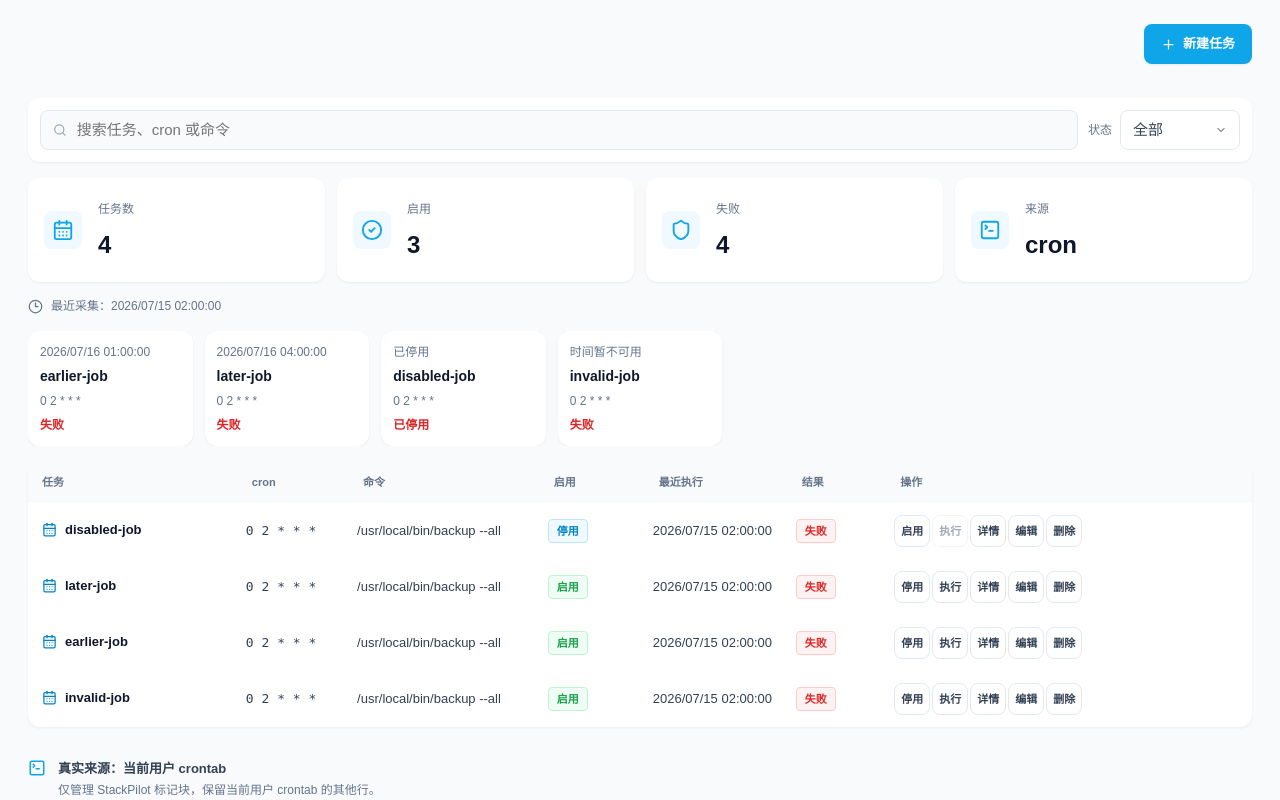
Test: schedule failed page › sorts the calendar by real next-run timestamps and retains execution details
The image size is (1280, 800).
Expected: the element that starts with "earlier-job" is shown, [28, 331, 722, 446]
Expected: the text "已停用" is shown 2 times, [393, 345, 429, 359]; [393, 418, 429, 432]
Click the button "2026/07/16 01:00:00 earlier-job 0 2 * * * 失败": [110, 389] box [28, 331, 193, 446]
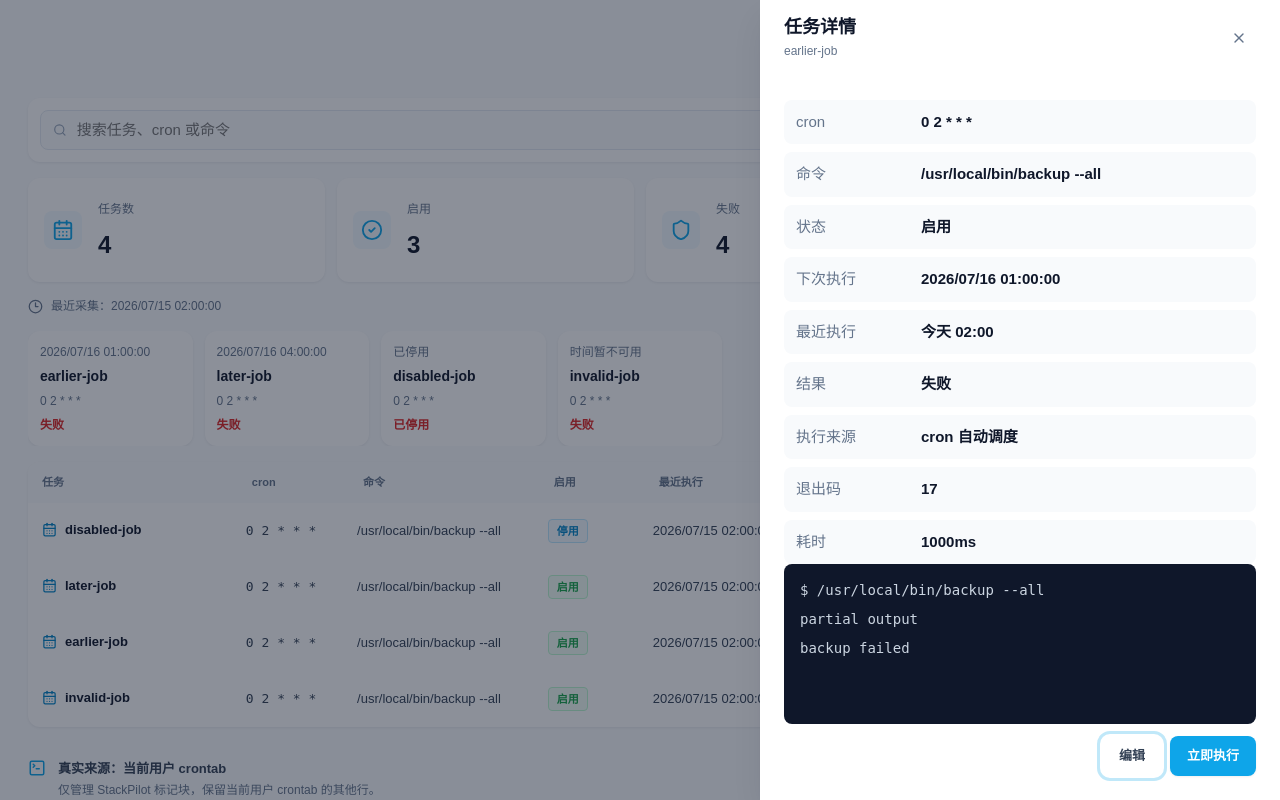
Now the text "partial output" is shown, box [800, 611, 918, 627]
